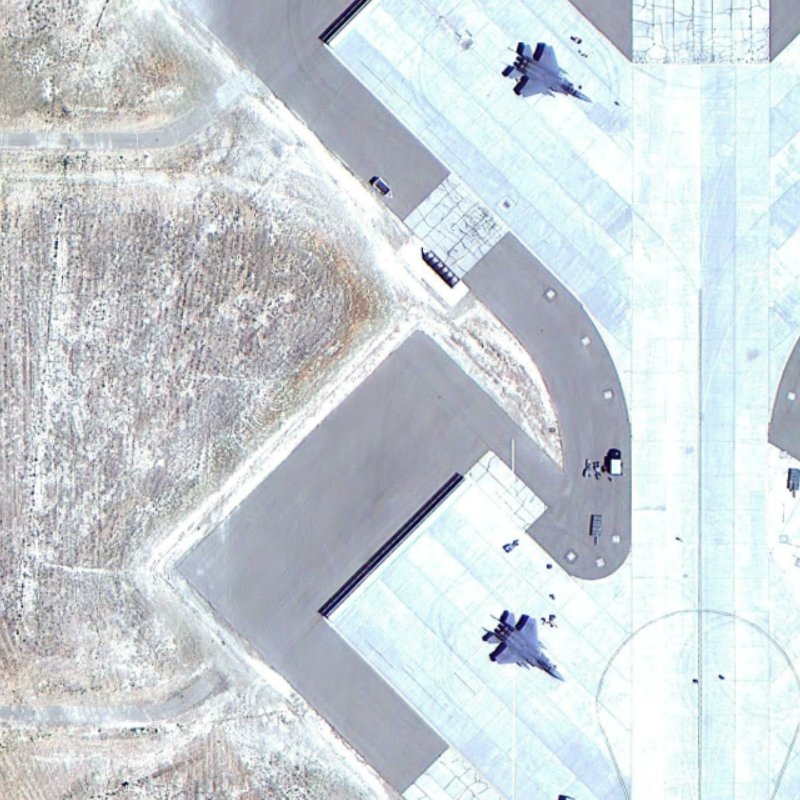A13: (478, 605, 567, 684), (501, 38, 595, 110)
